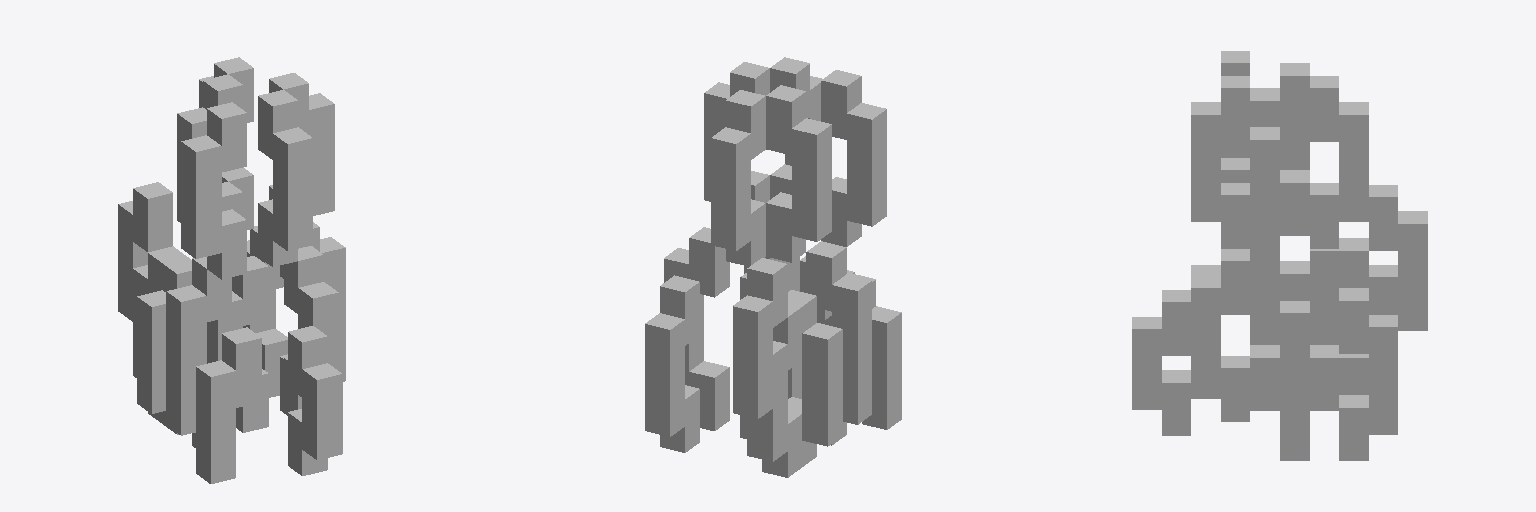
File: 2_4 bana.obj
The picture shows the model from 3 angles: view 1: azimuth 30°, elevation 25°; view 2: azimuth 150°, elevation 25°; view 3: azimuth 270°, elevation 25°; orthographic projection.
Parts seen in each view (by area): view 1: object 1; view 2: object 1; view 3: object 1.
Part boxes in pixels (bbox=[...]): object 1: bbox=[118, 57, 345, 483]; object 1: bbox=[645, 57, 901, 477]; object 1: bbox=[1132, 51, 1427, 460].
Size of the model in its own units: 0.7 by 1.3 by 1.